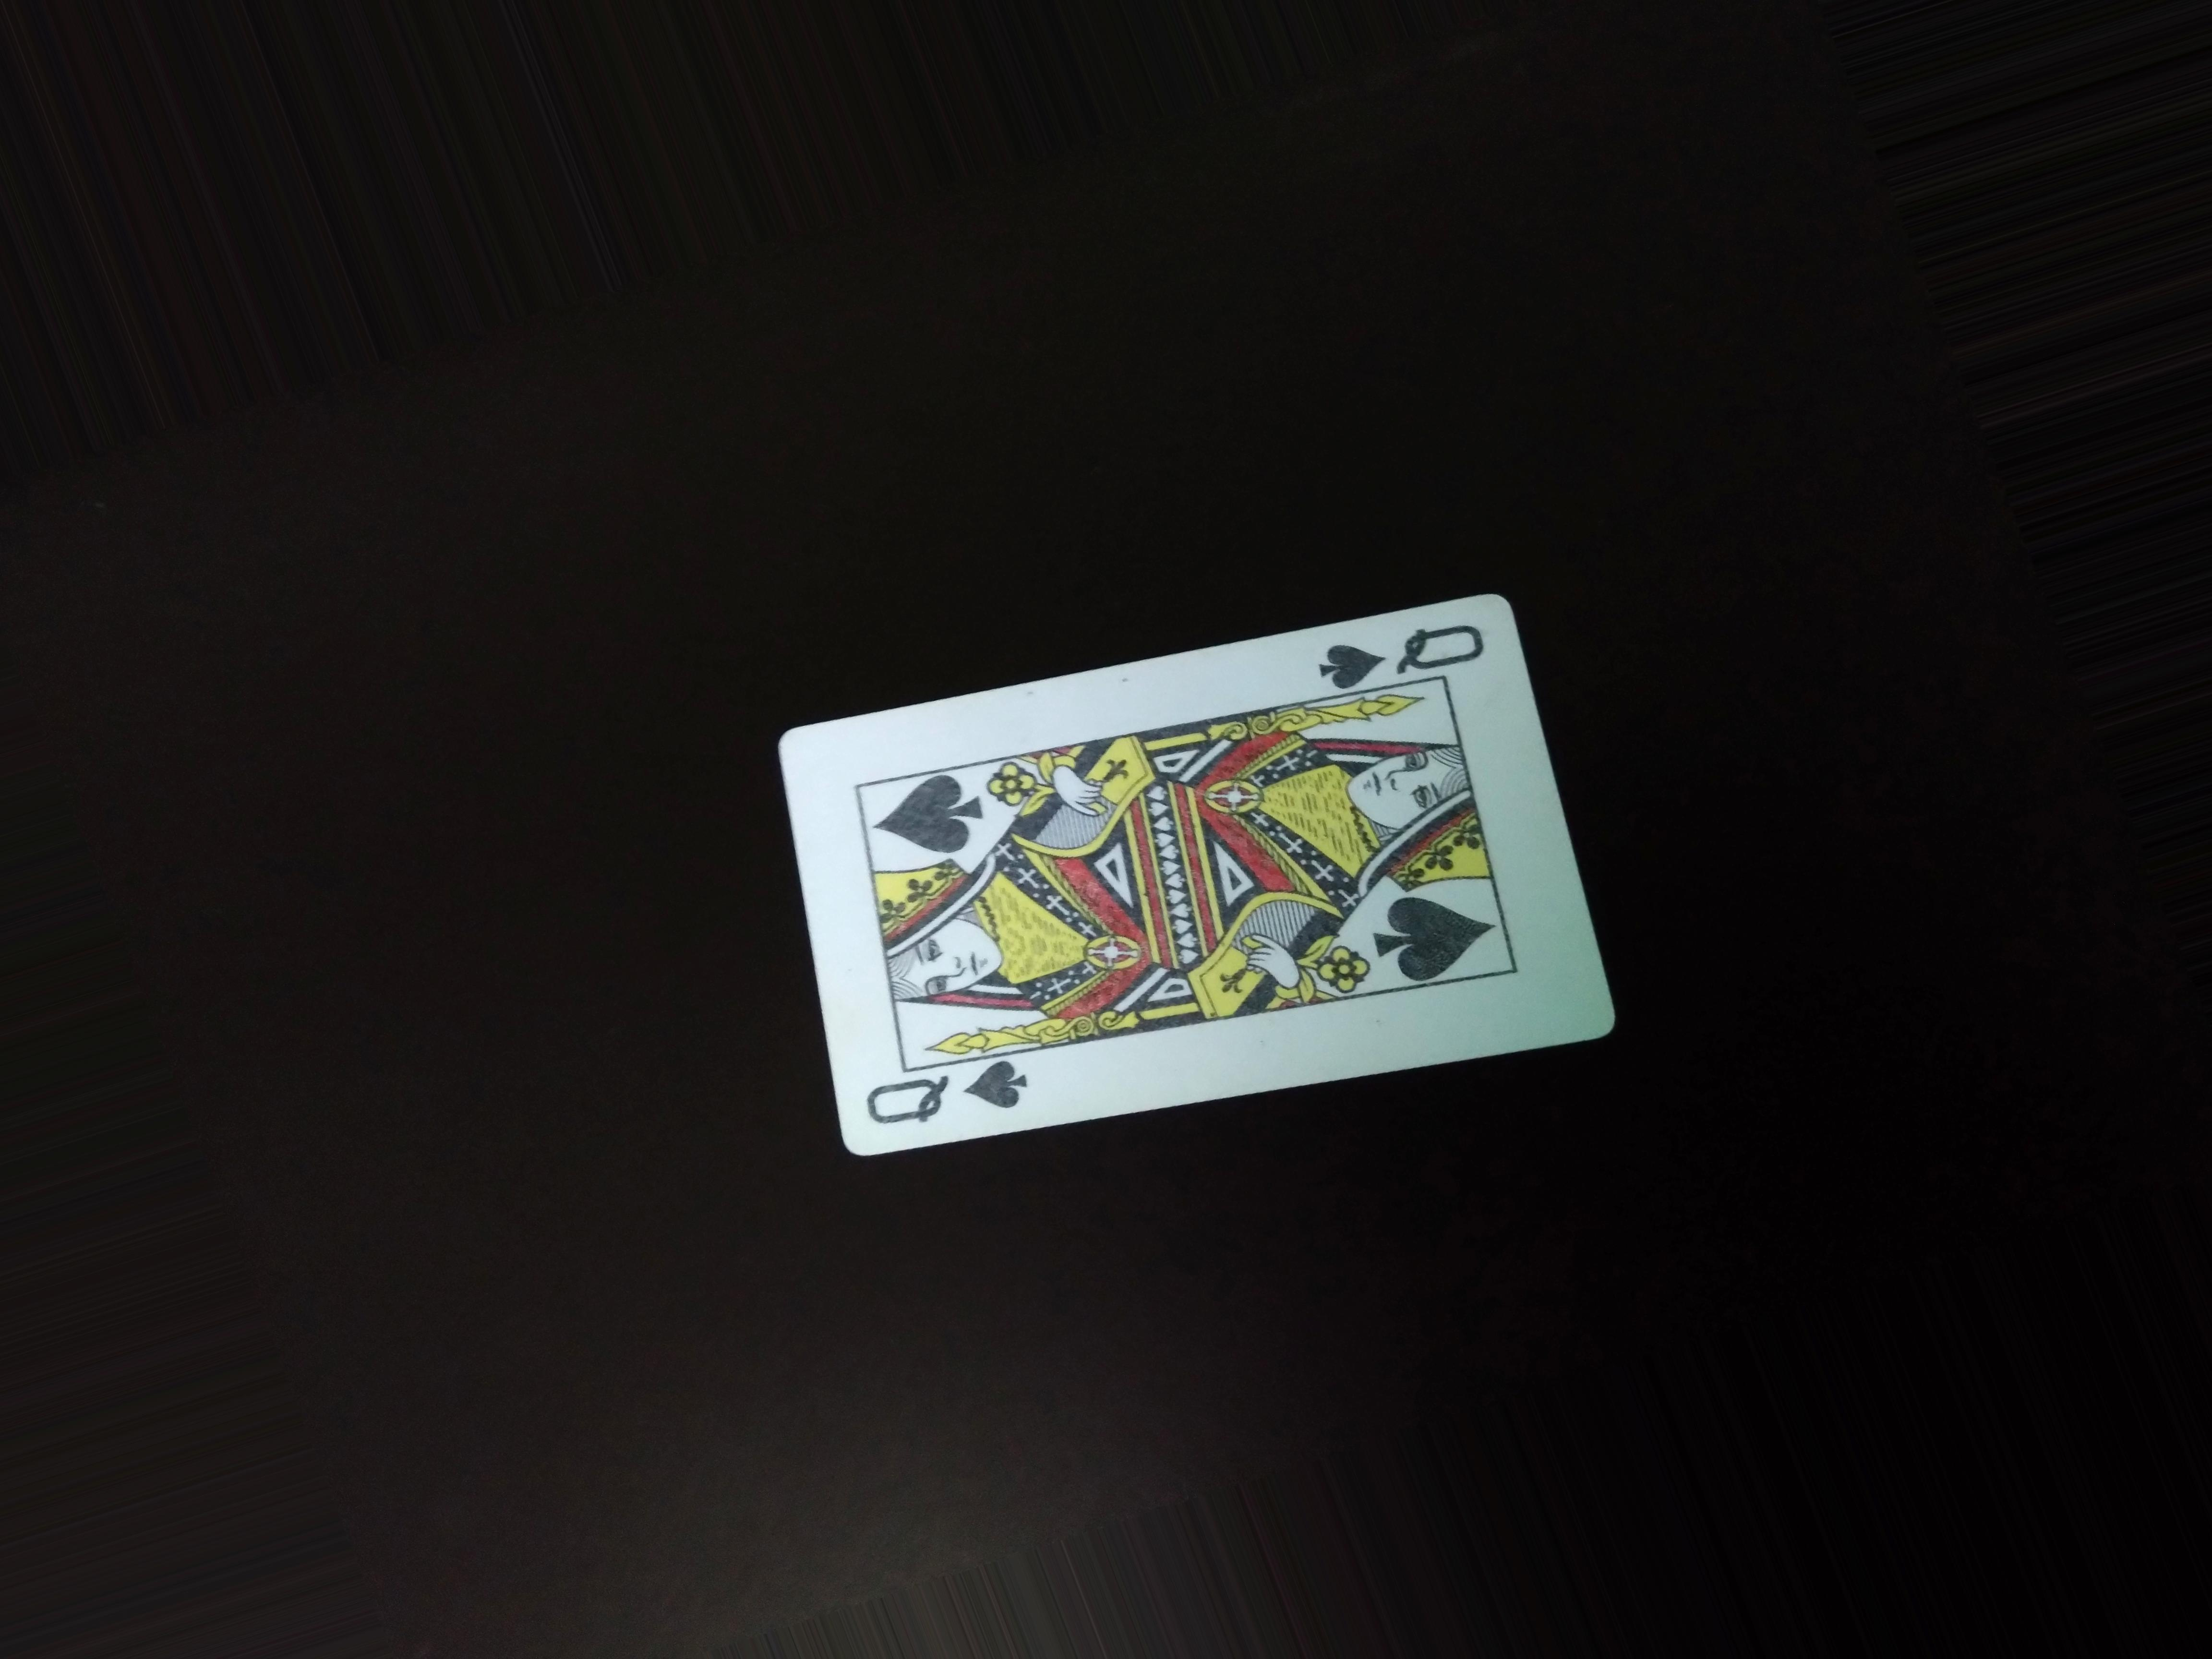QS: (840, 1063, 1035, 1122)
